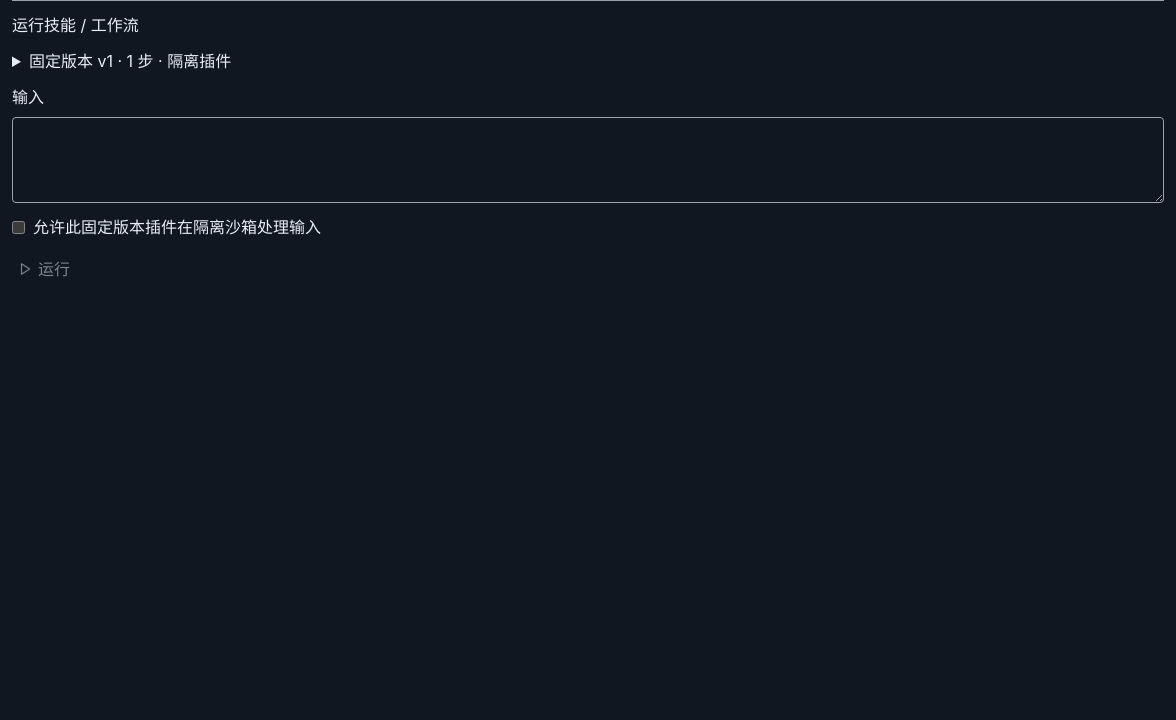
Scenario: AssetExecutionPanel › runs a plugin without requiring a model key and never reads a fabricated model run
Step 1. Type "input" into the text box labelled "输入" → (588, 160), box [12,117,1164,203]
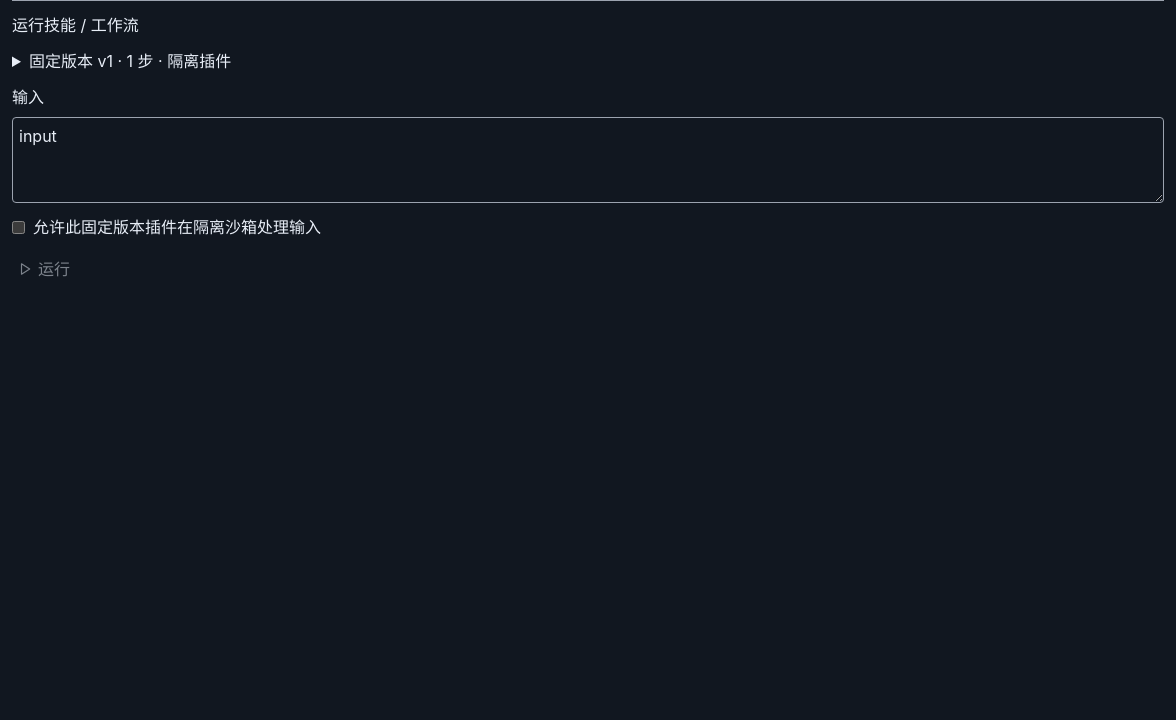
Step 2. Click the checkbox labelled "允许此固定版本插件在隔离沙箱处理输入" → (18, 227), box [12,220,25,234]
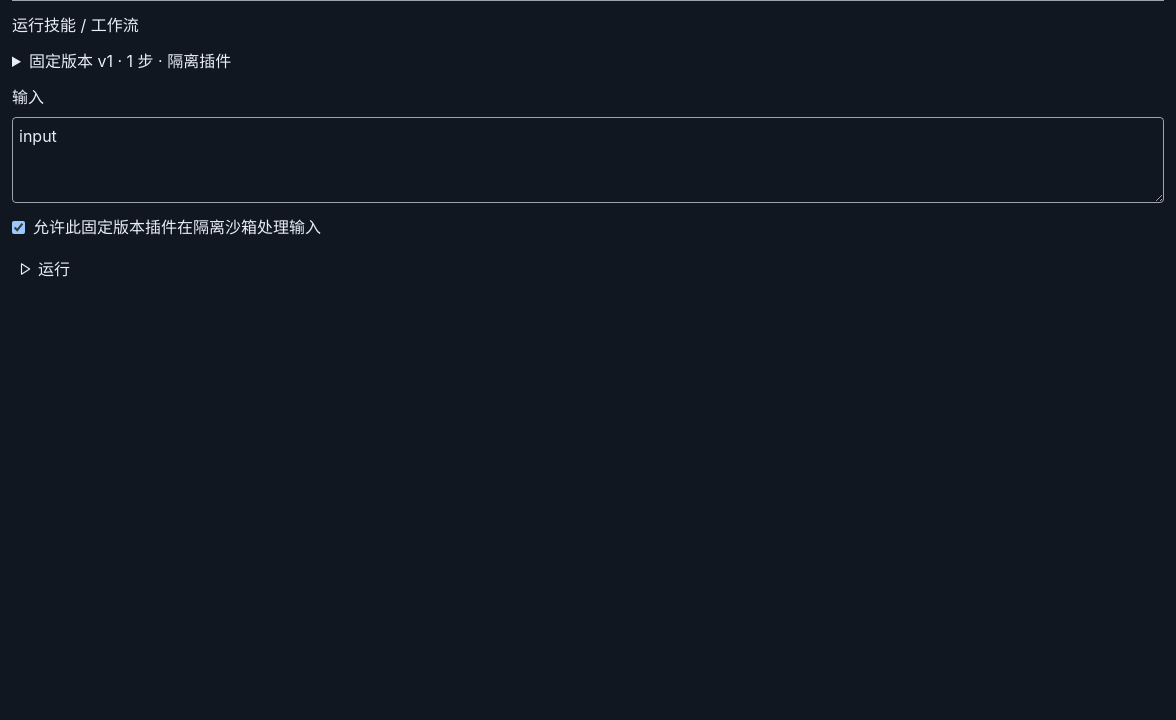
Step 3. Click the button "运行" → (54, 269), box [12,251,1164,287]
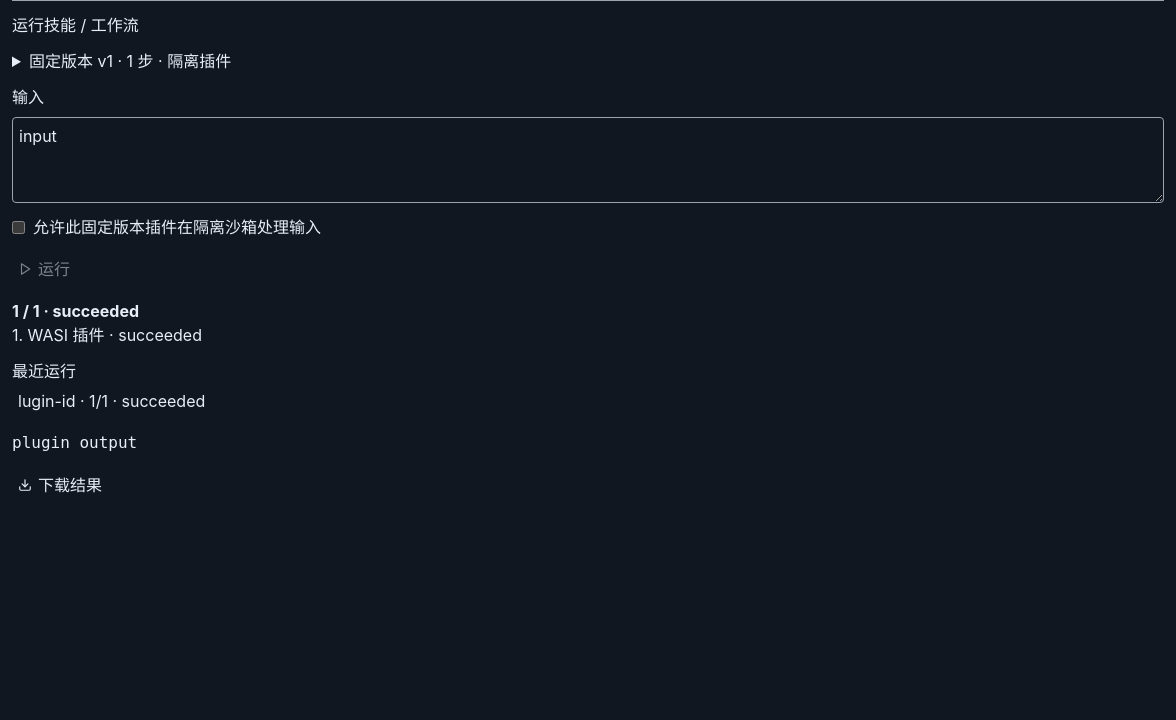
Expected: the text "plugin output" is shown, [12,433,137,452]
